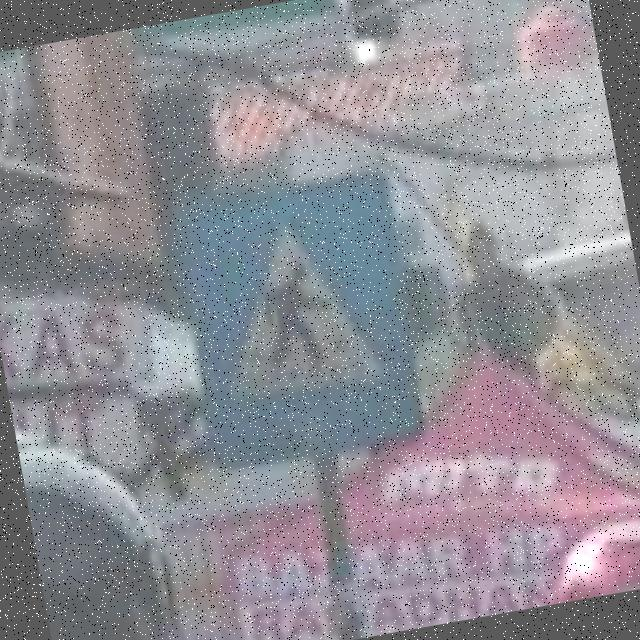Przejscie dla pieszych: (164, 161, 429, 480)
